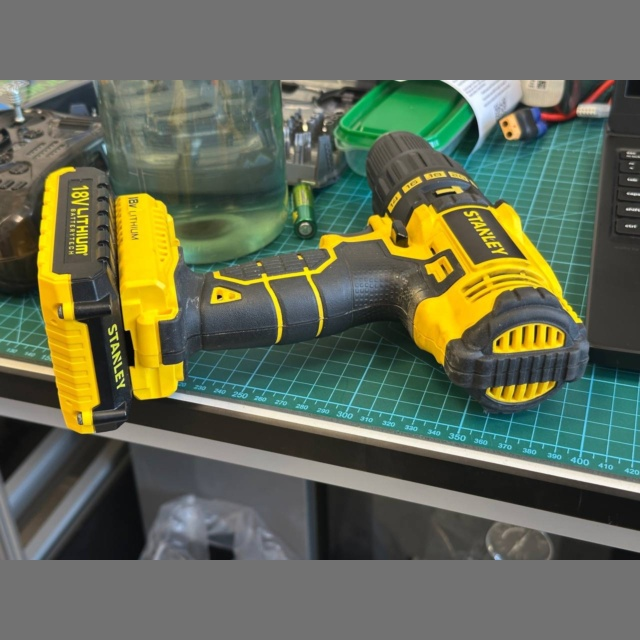drill: (39, 132, 589, 433)
